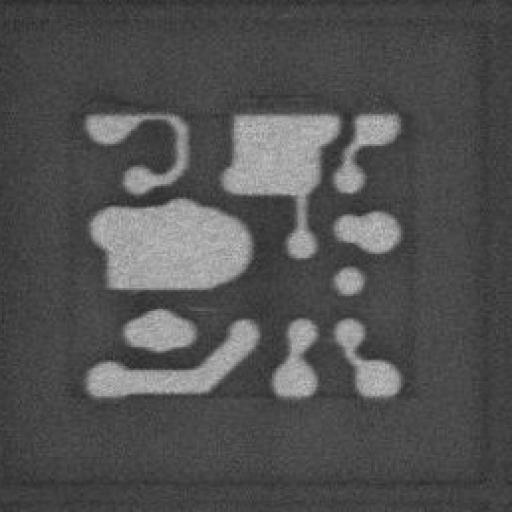NO_DIE: (67, 112, 411, 398)
